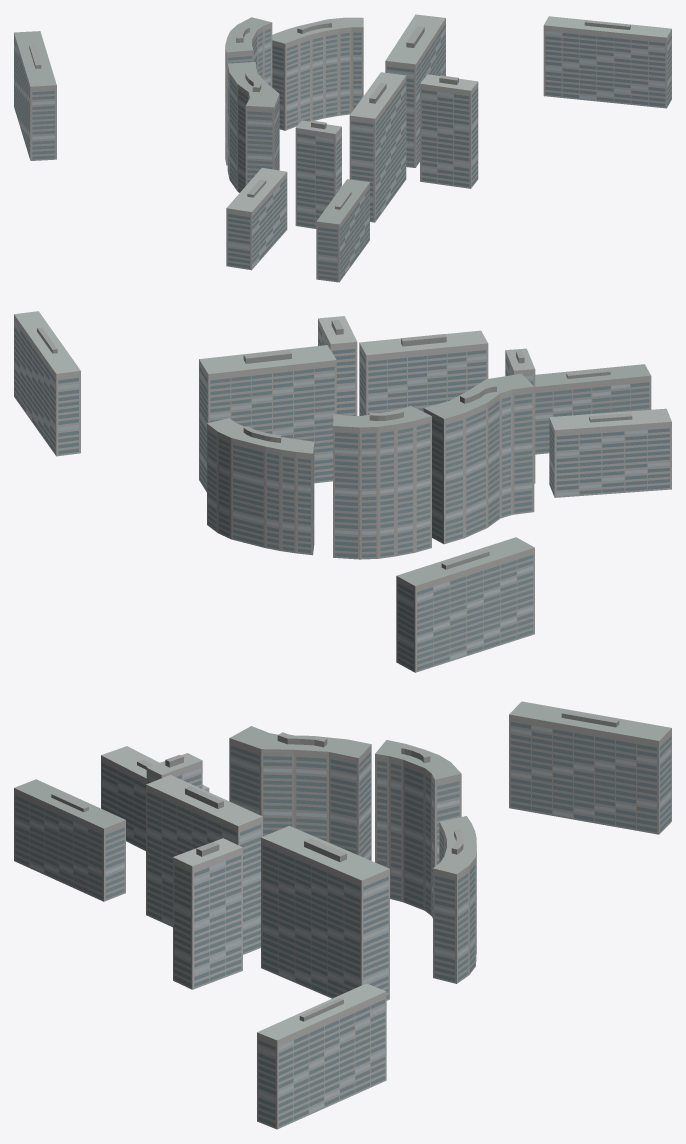
Rendered from apt-a13681303.glb.
The picture shows the model from 3 angles, top to bottom: view 1: azimuth 30°, elevation 25°; view 2: azimuth 150°, elevation 25°; view 3: azimuth 270°, elevation 25°; orthographic projection. The views are drawn at different scales.
Visible parts, largest first — view 1: apt-a13681303; view 2: apt-a13681303; view 3: apt-a13681303.
Boxes of the visible parts, x1,y1,x2,y2 form: apt-a13681303: (14,14,671,282); apt-a13681303: (14,311,671,672); apt-a13681303: (14,701,671,1129).
Bounding box in the file's own units: 300 × 62 × 249.
